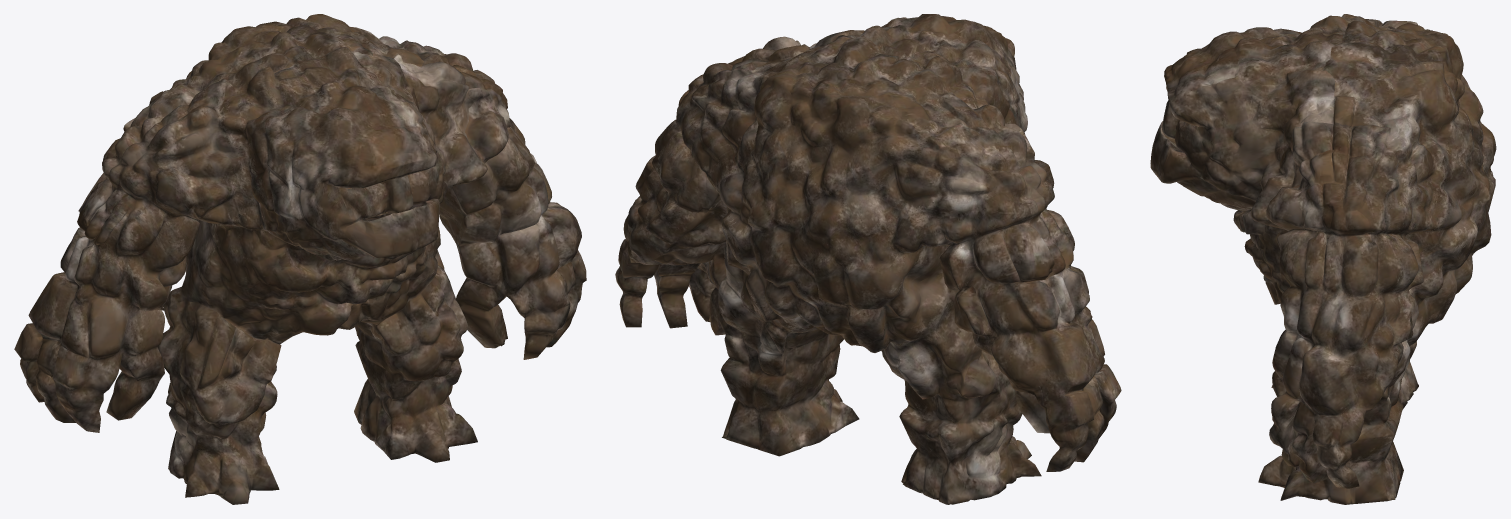
The model's file is MZ4250 - Galeb Duhr 2.glb.
3 renders of one model, left to right at view 1: azimuth 30°, elevation 25°; view 2: azimuth 150°, elevation 25°; view 3: azimuth 270°, elevation 25°, orthographic.
Parts seen in each view (by area): view 1: default; view 2: default; view 3: default.
Boxes of the visible parts, left/top/right/bottom form: default: left=14, top=14, right=586, bottom=504; default: left=615, top=14, right=1121, bottom=504; default: left=1150, top=14, right=1496, bottom=504.
Bounding box in the file's own units: 1.42 × 1.07 × 0.8294.
Materials: 1 (1 with a texture image).
